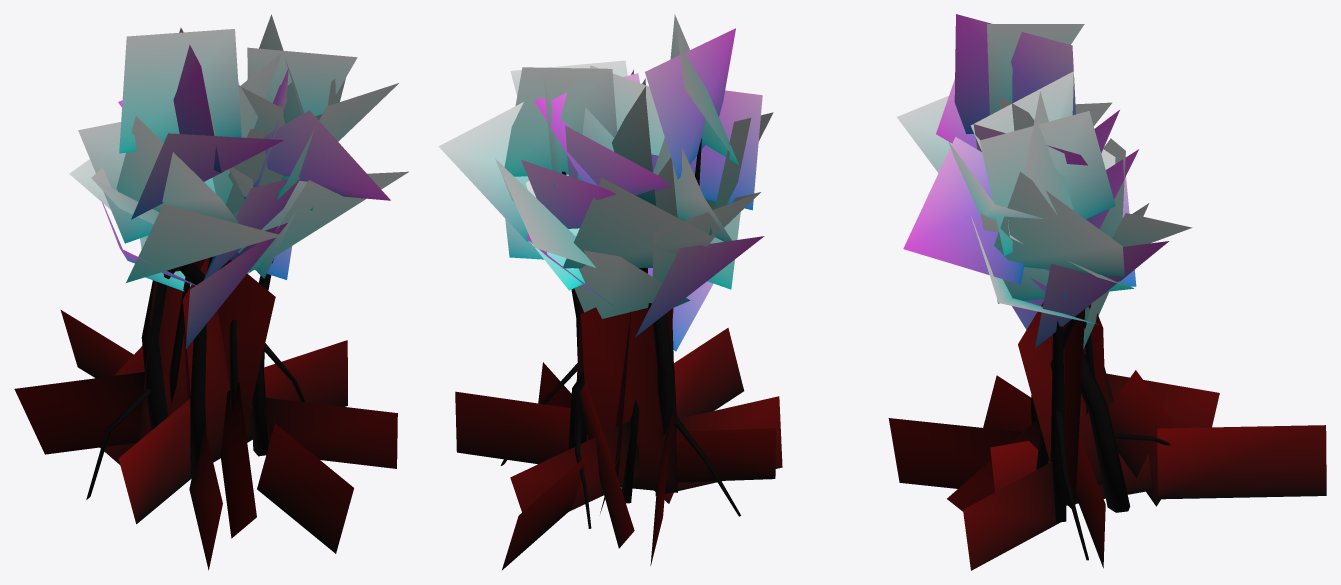
File: swamp_mangrove_d_256.fbx
3 views of the same model, side by side, from view 1: azimuth 30°, elevation 25°; view 2: azimuth 150°, elevation 25°; view 3: azimuth 270°, elevation 25° (orthographic). The views are drawn at different scales.
Visible parts, largest first — view 1: leavesmd256, treemd256; view 2: leavesmd256, treemd256; view 3: leavesmd256, treemd256.
Boxes of the visible parts, x1=… form: leavesmd256: x1=14, y1=14, x2=408, y2=570; treemd256: x1=86, y1=257, x2=305, y2=499; leavesmd256: x1=438, y1=14, x2=782, y2=570; treemd256: x1=500, y1=138, x2=740, y2=528; leavesmd256: x1=888, y1=14, x2=1326, y2=570; treemd256: x1=1031, y1=314, x2=1170, y2=560.
Size of what is drawn, in the model's own units: 4.1 by 6.73 by 6.13.
